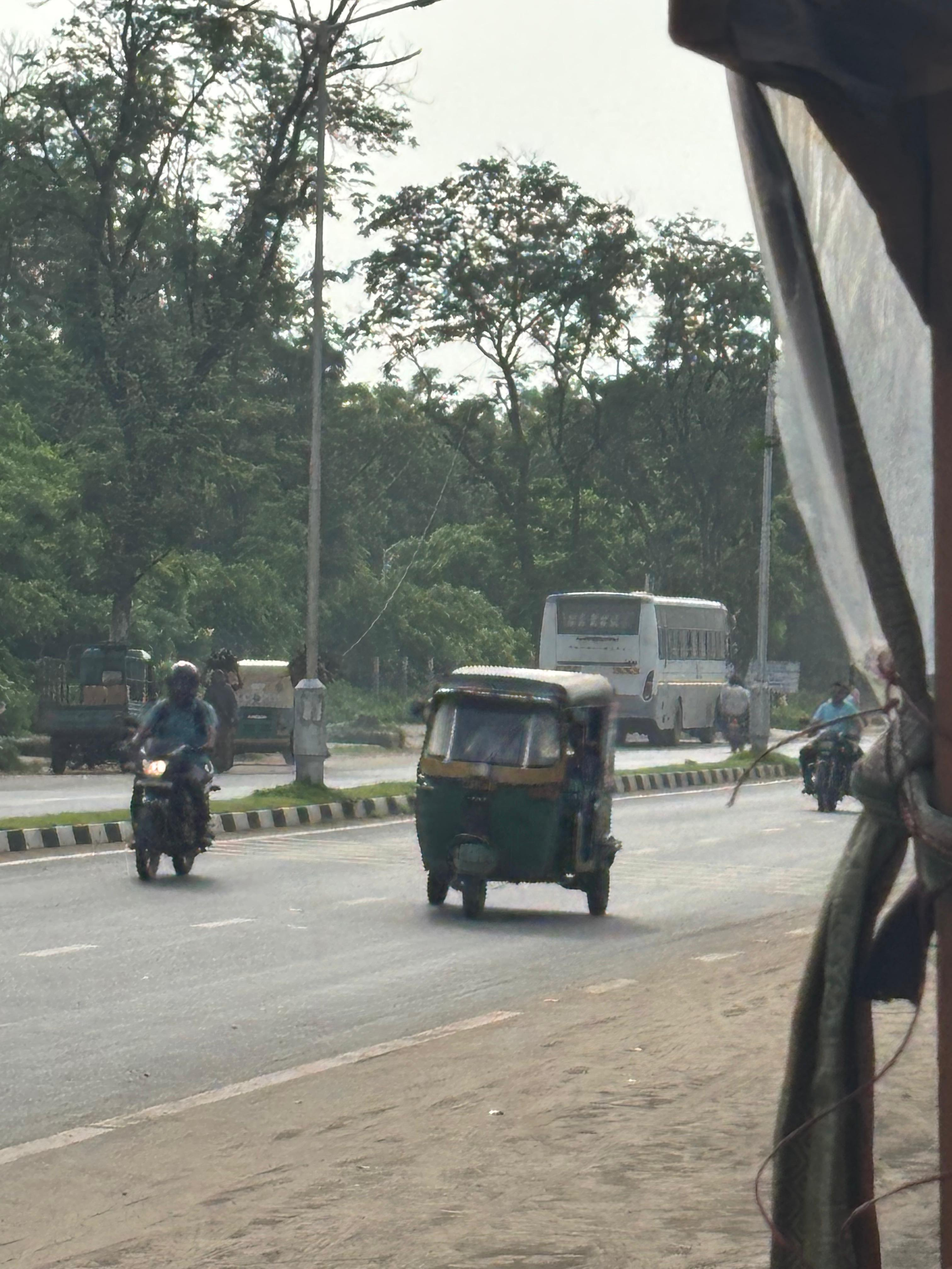BikeWithRider: (125, 659, 222, 886), (796, 681, 871, 813), (714, 671, 753, 753)
Helmet: (163, 661, 201, 708)
NoHelmet: (828, 681, 848, 705)
